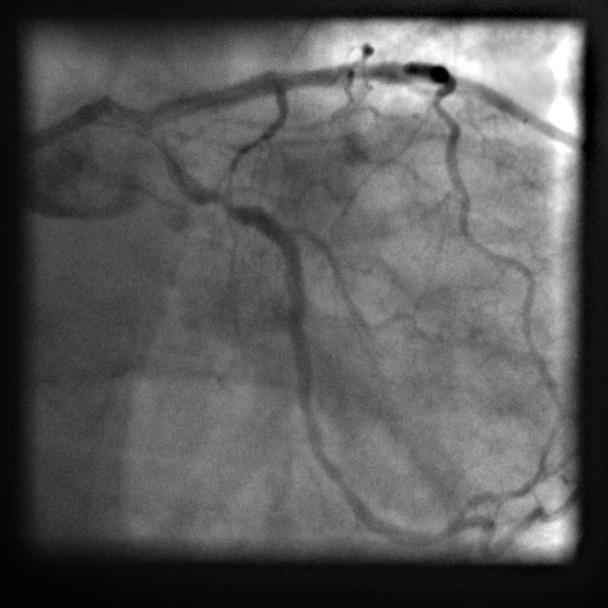Stenosis: (210, 194, 239, 213)
